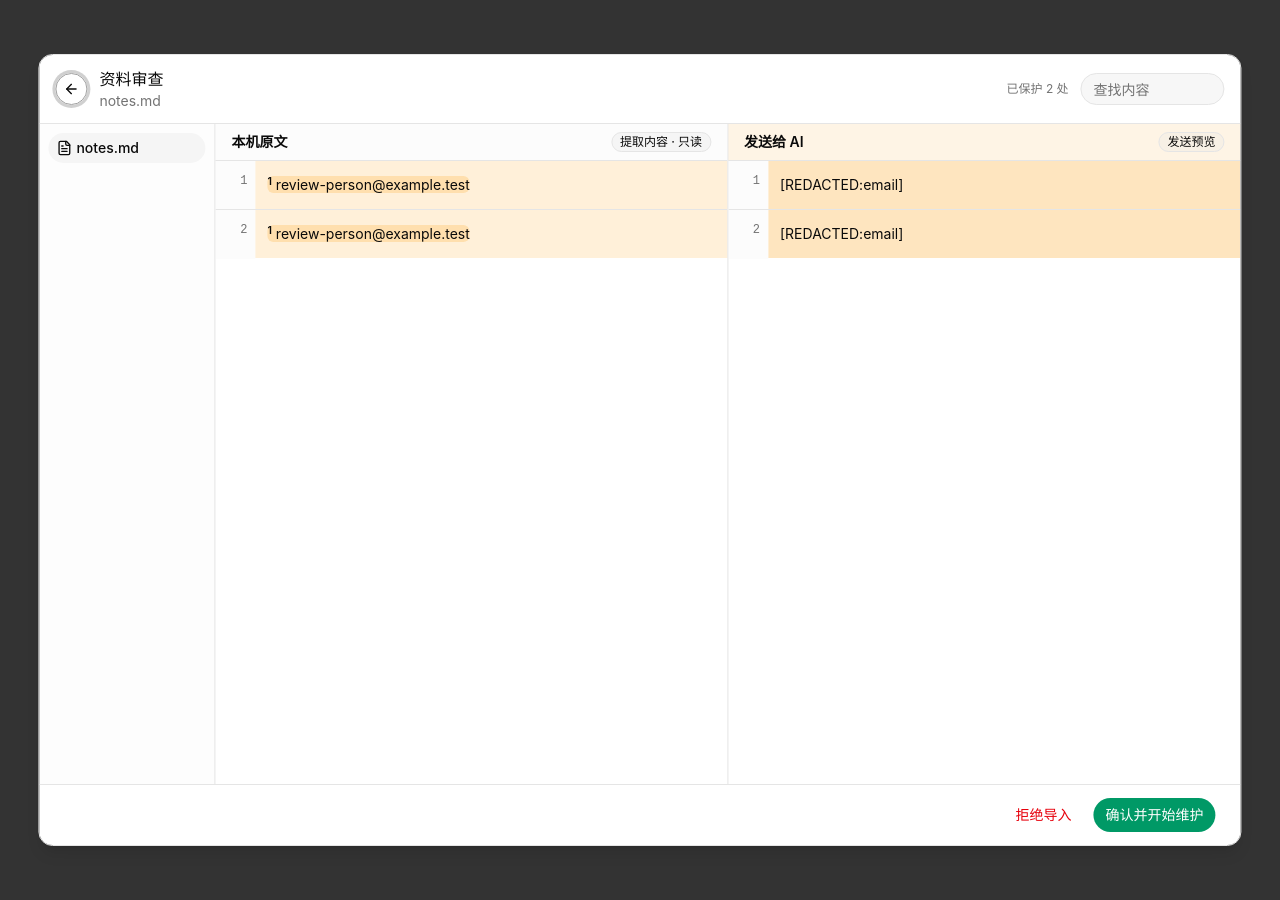
Test: updates only the selected repeated value after cancelling protection
The image size is (1280, 900).
Click the 1st button "1review-person@example.test".
click(369, 184)  # box [255, 161, 727, 209]
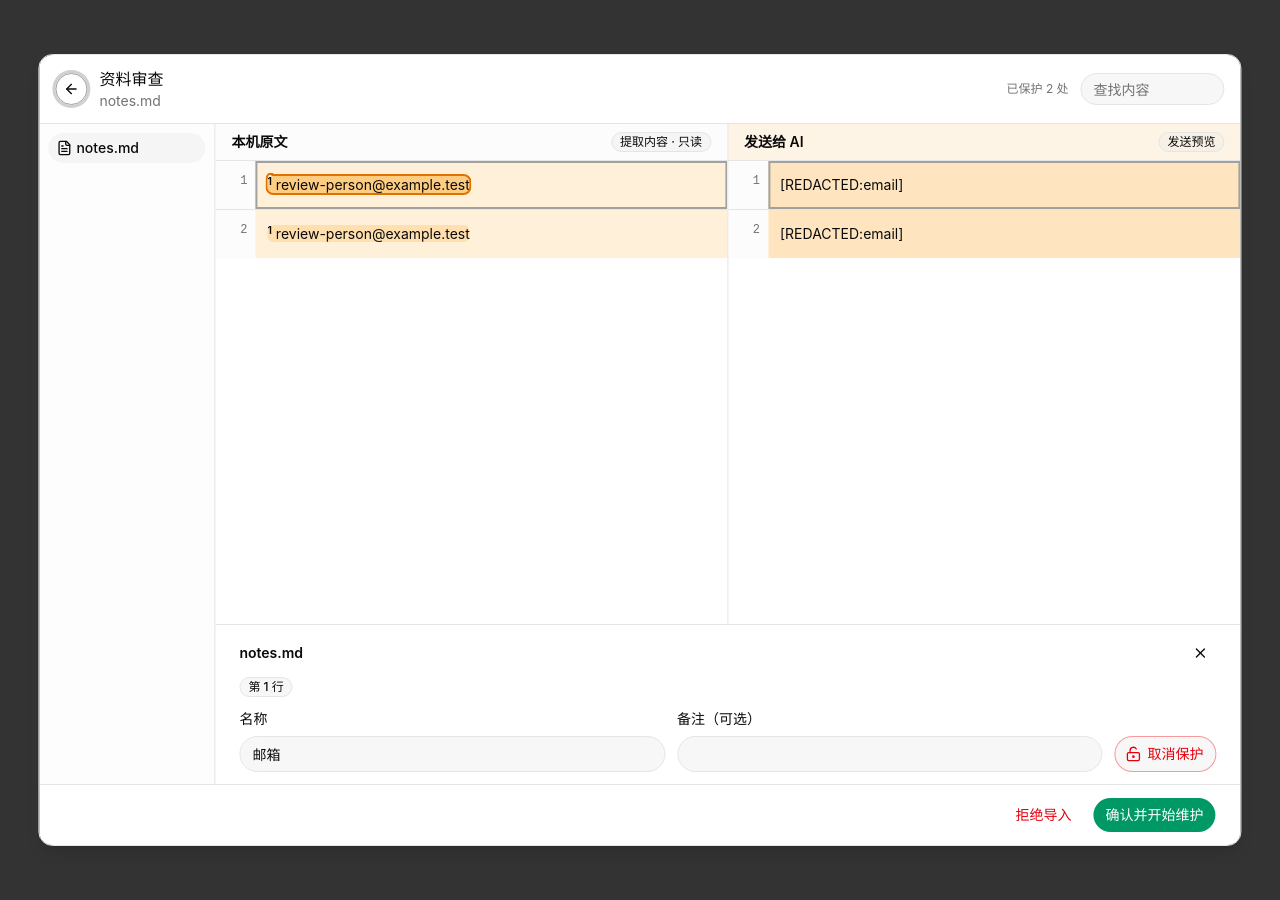
Expected: the button "取消保护" is shown
Click the button "取消保护".
click(1166, 754)  # box [1115, 736, 1217, 772]
Wait 150 ms
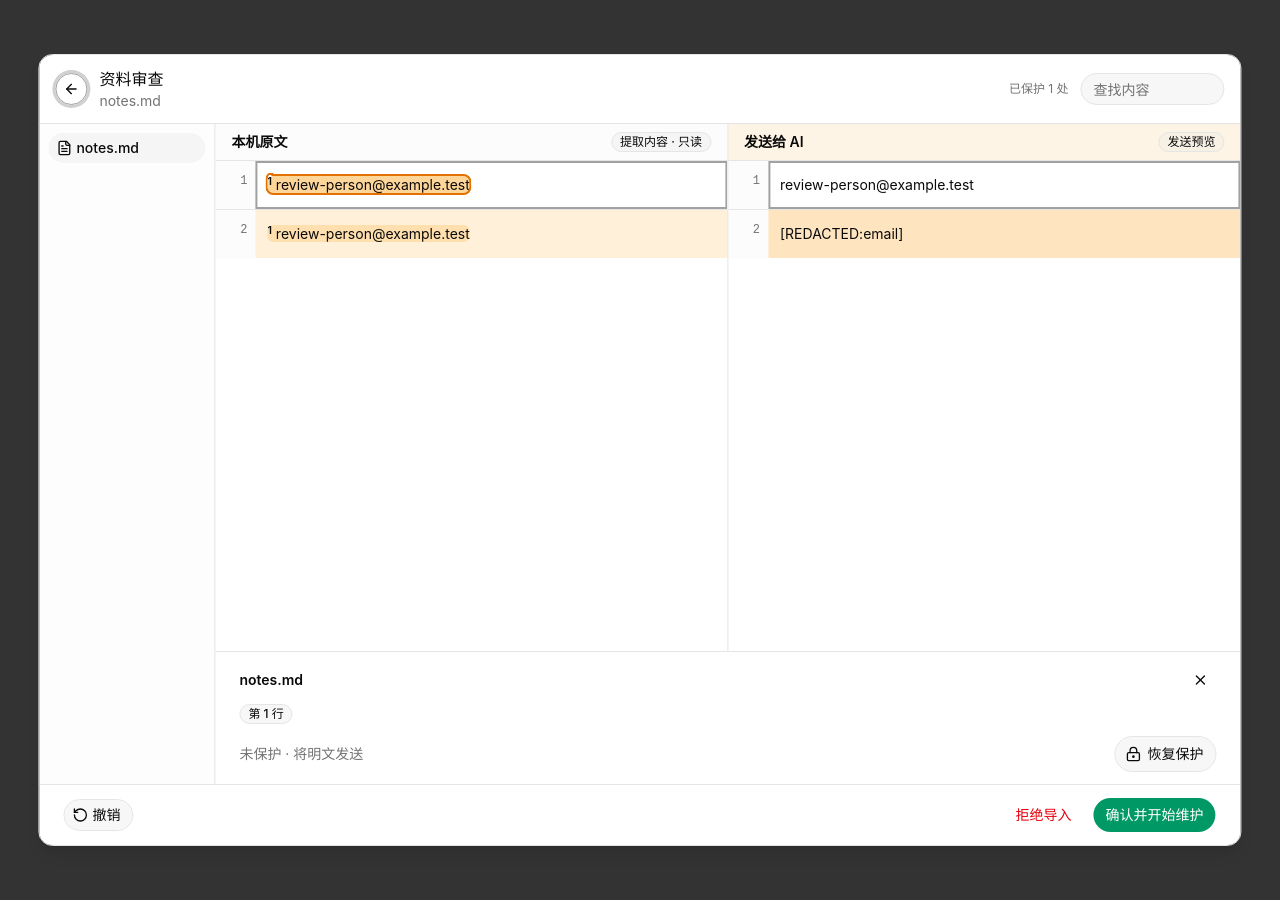
Expected: the button "[REDACTED:email]" is shown, [768, 210, 1241, 258]
Expected: the button "review-person@example.test" is shown, [768, 161, 1241, 209]
